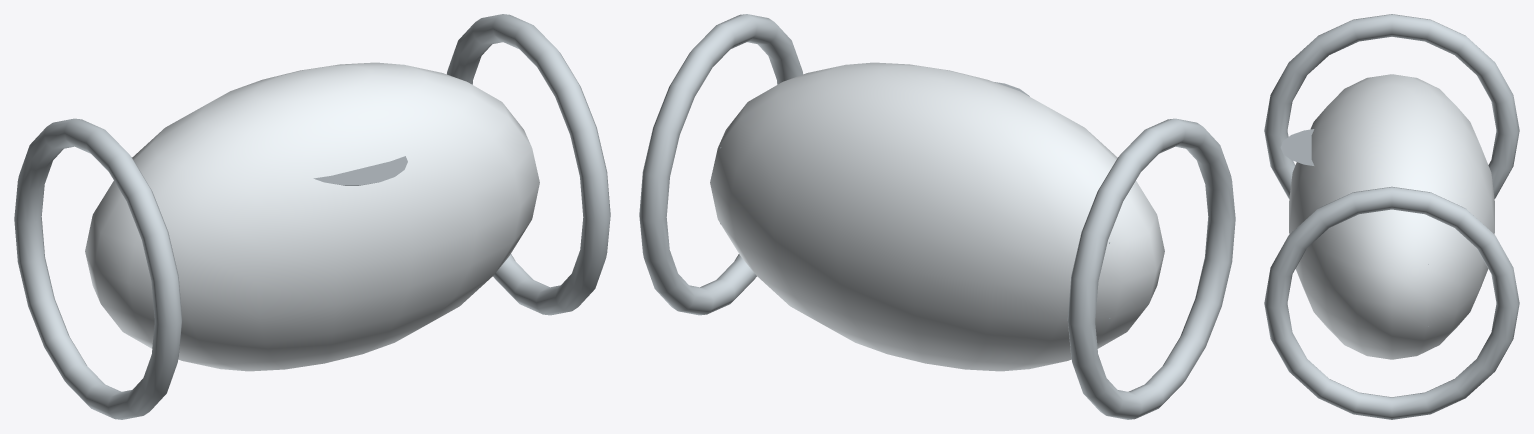
File: item_mask.fbx
The picture shows the model from 3 angles, left to right: view 1: azimuth 30°, elevation 25°; view 2: azimuth 150°, elevation 25°; view 3: azimuth 270°, elevation 25°; orthographic projection. The views are drawn at different scales.
Visible parts, largest first — view 1: M__item_mask; view 2: M__item_mask; view 3: M__item_mask.
Boxes of the visible parts, box(x1,y1,x2,y2) form: M__item_mask: box(14, 14, 610, 419); M__item_mask: box(639, 14, 1235, 419); M__item_mask: box(1264, 14, 1519, 419).
Size of the model in its own units: 0.1855 by 0.11 by 0.11.
